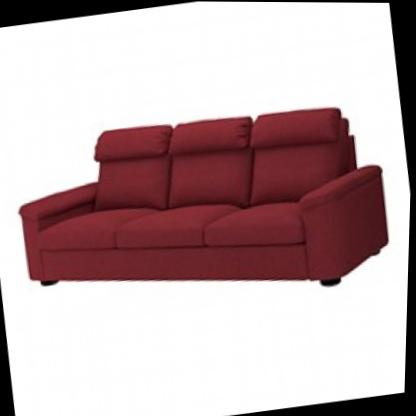Sofa: (0, 81, 403, 336)
